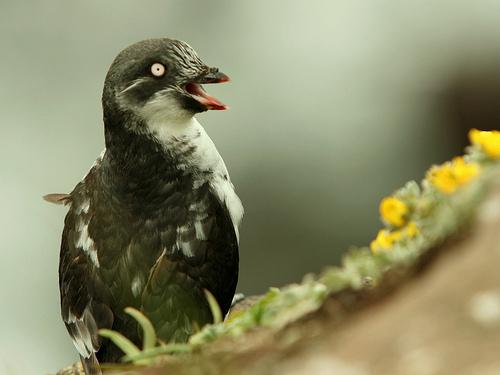006.Least_Auklet: (45, 34, 244, 374)
